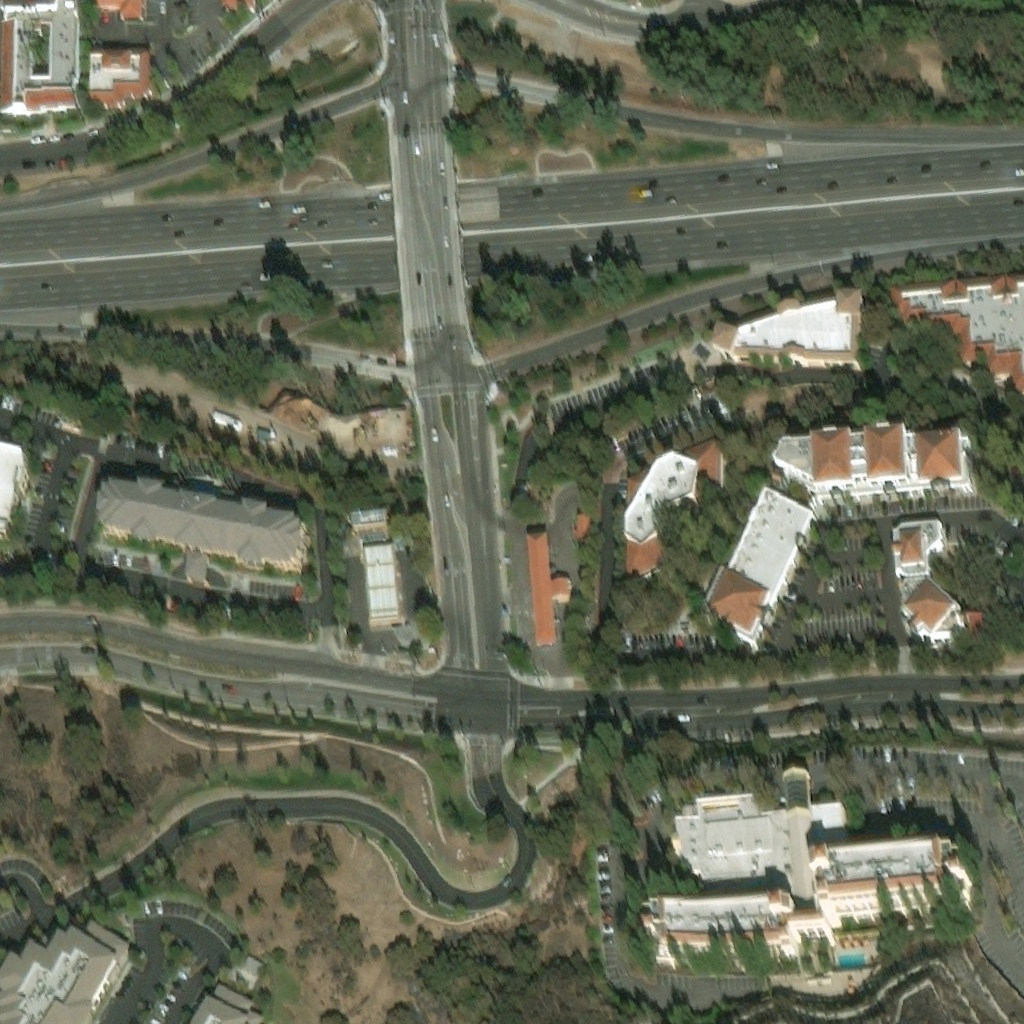0 no-damage: (636, 773, 970, 951), (98, 486, 306, 576), (701, 491, 818, 646), (889, 276, 1023, 394), (0, 908, 128, 1023), (770, 435, 977, 505), (624, 444, 725, 585), (710, 293, 866, 366), (350, 507, 427, 648), (893, 525, 984, 640), (0, 0, 83, 117), (526, 530, 571, 642), (87, 46, 152, 106), (192, 983, 265, 1023), (0, 449, 29, 539), (90, 0, 147, 19), (237, 954, 265, 986), (61, 413, 90, 437), (223, 0, 257, 12), (577, 511, 591, 540)
